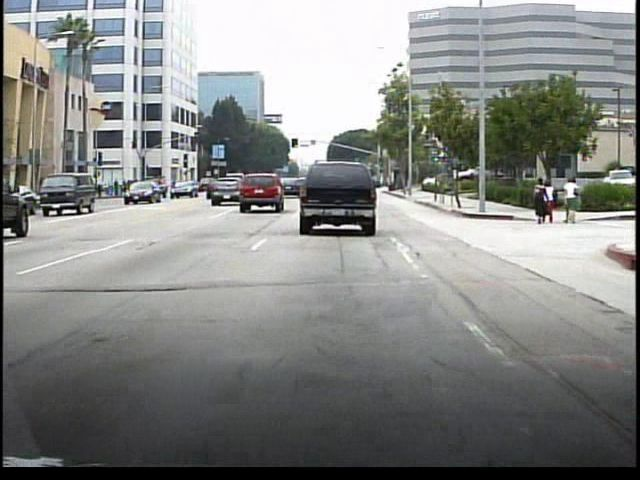person: (560, 175, 580, 225), (531, 175, 546, 226), (542, 180, 556, 225)
